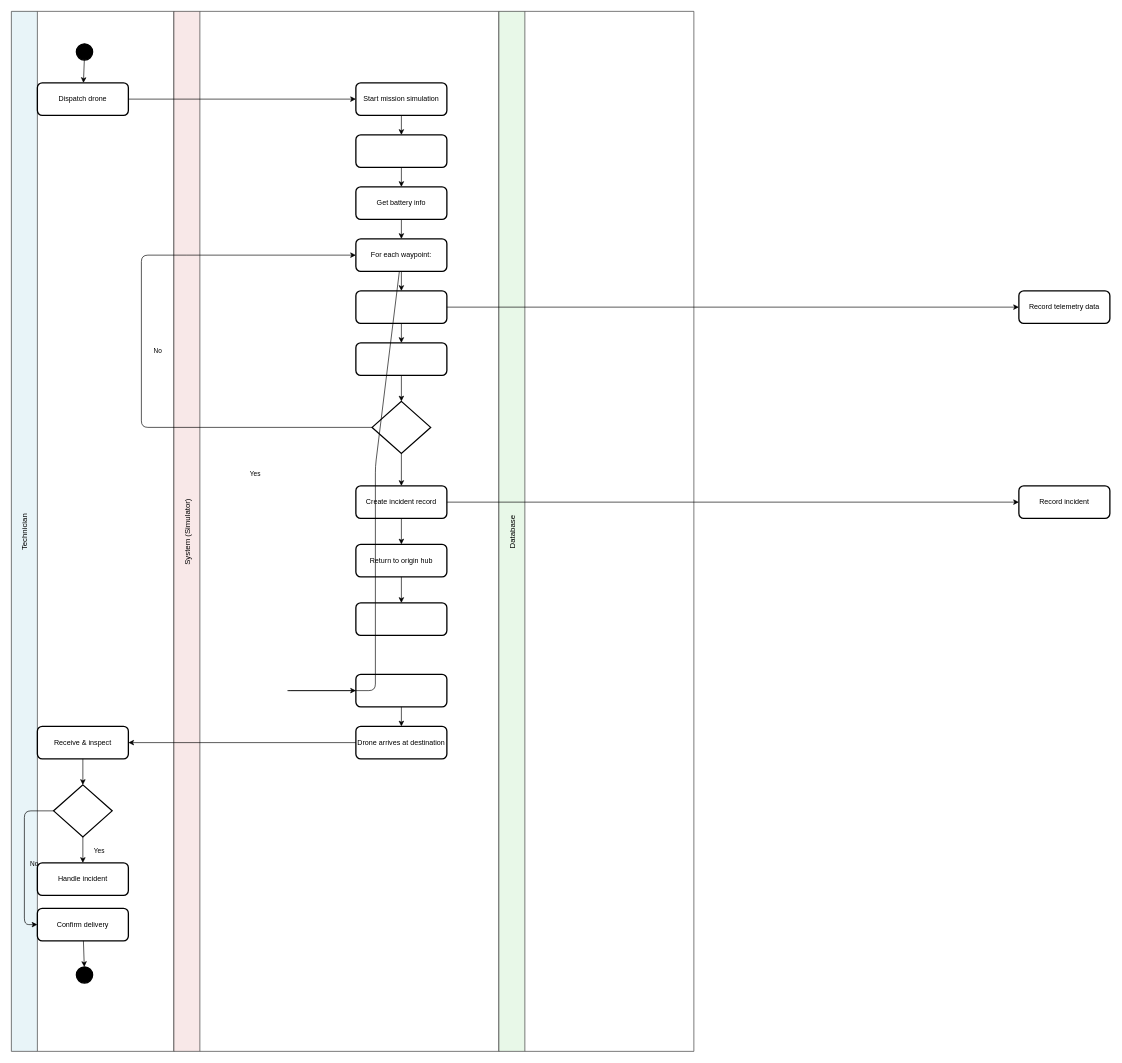
This 1122x1063 diagram has some shape labels left out. Each missing label, with the centre of its shape:
Consume battery: the point at 401,359
End flight: the point at 401,619
Fly to destination: the point at 401,690
Incident alert?: the point at 82,810
Incident occurs?: the point at 401,427
Load route waypoints: the point at 401,151
Update position, altitude, speed: the point at 401,307
